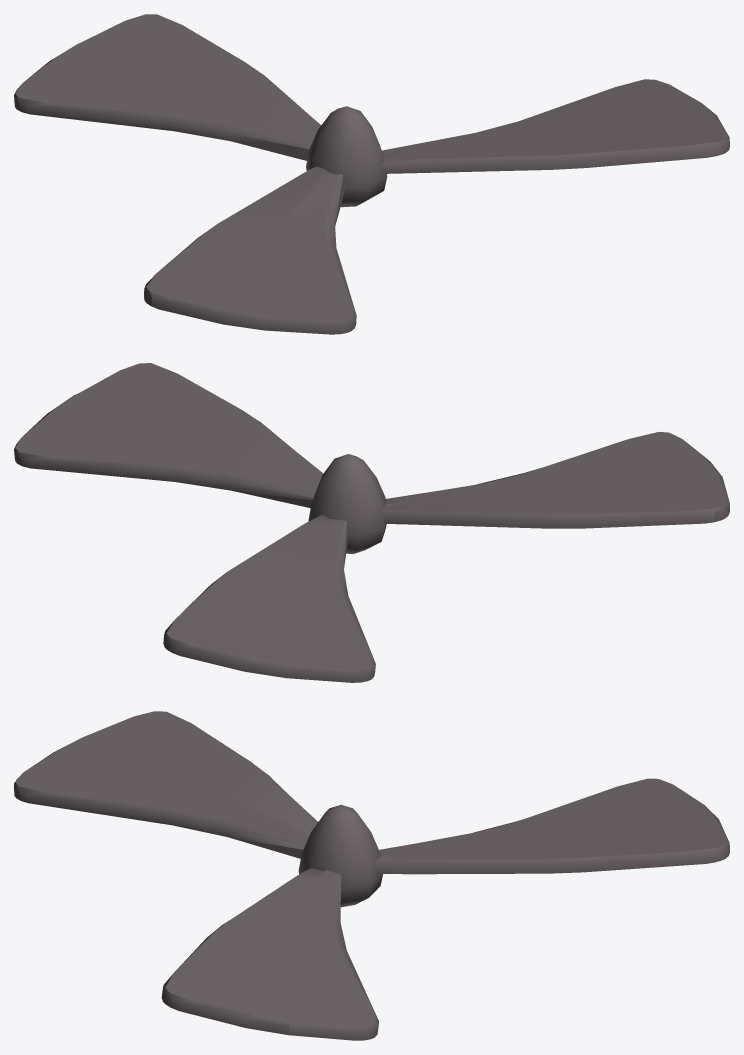
Rendered from Vent_fan.fbx.
The picture shows the model from 3 angles, top to bottom: view 1: azimuth 30°, elevation 25°; view 2: azimuth 150°, elevation 25°; view 3: azimuth 270°, elevation 25°; orthographic projection. The views are drawn at different scales.
Visible parts, largest first — view 1: Vent_fan; view 2: Vent_fan; view 3: Vent_fan.
Part boxes in pixels (left/top/right/bottom): Vent_fan: left=14, top=14, right=729, bottom=334; Vent_fan: left=14, top=363, right=729, bottom=682; Vent_fan: left=14, top=711, right=729, bottom=1040.
Size of the model in its own units: 122 by 17.47 by 120.
